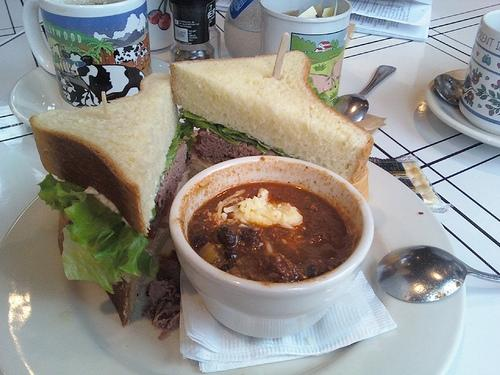lettuce: (62, 226, 124, 295), (154, 136, 197, 206), (186, 118, 238, 146), (226, 134, 269, 154), (307, 76, 334, 107), (218, 124, 250, 142), (179, 108, 214, 124), (246, 134, 272, 150)
